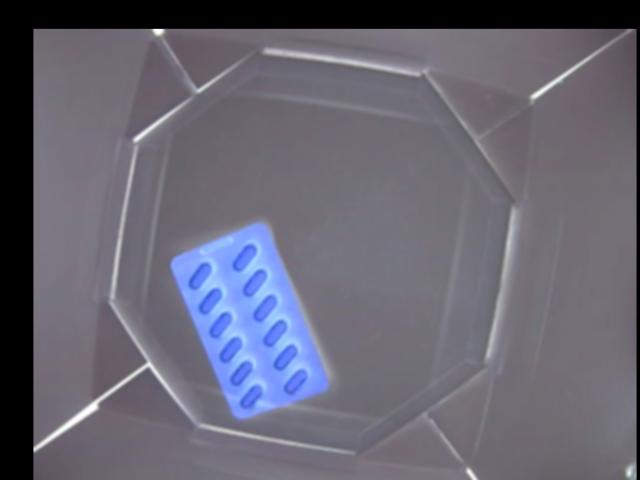Medicine: (171, 221, 331, 418)
